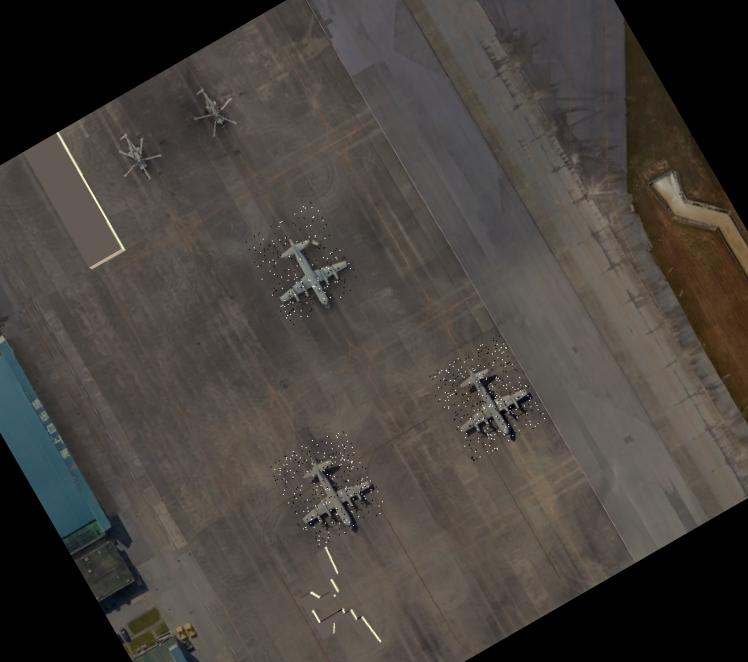A9: (424, 334, 548, 462), (266, 423, 390, 550), (240, 200, 364, 326)
